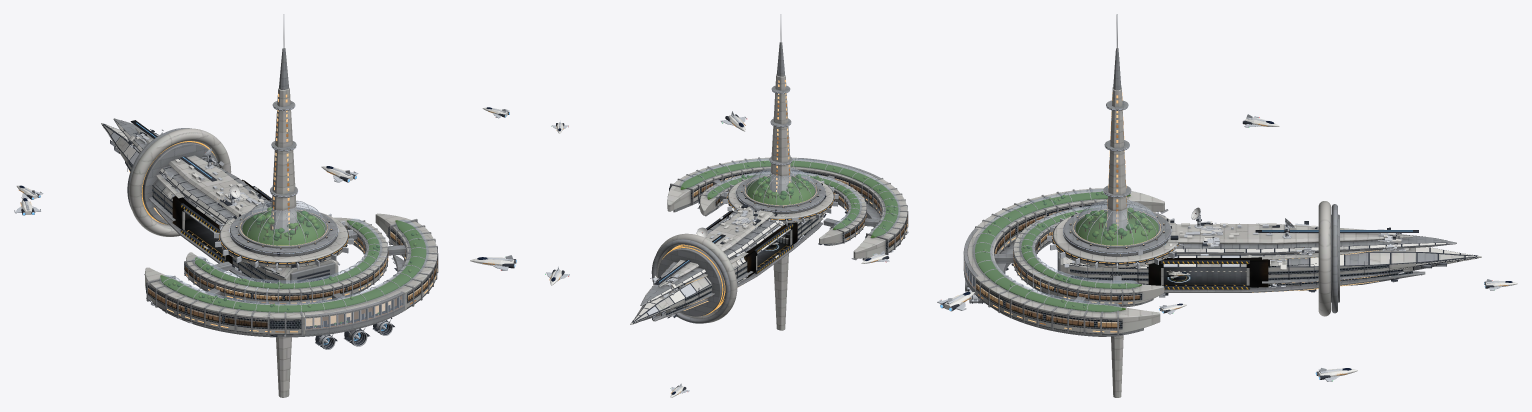
The model's file is ship_m.glb.
3 views of the same model, side by side, from view 1: azimuth 30°, elevation 25°; view 2: azimuth 150°, elevation 25°; view 3: azimuth 270°, elevation 25° (orthographic). The views are drawn at different scales.
Parts seen in each view (by area): view 1: ship_hull, ship_vault, ship_lawn, ship_dark, ship_glass, ship_facade, ship_small_pearl, ship_gallery, ship_metal, ship_bay, ship_small_white, ship_viewglass (+3 smaller); view 2: ship_hull, ship_vault, ship_lawn, ship_dark, ship_glass, ship_small_pearl, ship_small_white, ship_facade, ship_metal, ship_bay, ship_gallery, ship_tree2 (+2 smaller); view 3: ship_hull, ship_vault, ship_lawn, ship_dark, ship_facade, ship_bay, ship_glass, ship_small_pearl, ship_small_white, ship_gallery, ship_metal, ship_tree2 (+1 smaller).
Part boxes in pixels (box(x1,y1,x2,y2)): ship_hull: box(101, 48, 438, 397); ship_vault: box(159, 218, 428, 312); ship_lawn: box(160, 211, 426, 312); ship_dark: box(102, 120, 437, 348); ship_glass: box(241, 200, 326, 245); ship_facade: box(125, 160, 437, 329); ship_small_pearl: box(110, 132, 405, 346); ship_gallery: box(148, 231, 437, 327); ship_metal: box(132, 14, 428, 349); ship_bay: box(172, 179, 271, 266); ship_small_white: box(102, 121, 338, 270); ship_viewglass: box(306, 295, 404, 329); ship_hull: box(630, 42, 908, 330); ship_vault: box(680, 158, 899, 236); ship_lawn: box(680, 160, 898, 237); ship_dark: box(632, 169, 907, 323); ship_glass: box(746, 168, 815, 204); ship_small_pearl: box(647, 172, 905, 319); ship_small_white: box(632, 206, 823, 323); ship_facade: box(666, 170, 907, 315); ship_metal: box(650, 14, 908, 316); ship_bay: box(707, 211, 797, 277); ship_gallery: box(692, 174, 907, 247); ship_tree2: box(697, 160, 896, 228); ship_hull: box(963, 48, 1481, 397); ship_vault: box(972, 189, 1138, 312); ship_lawn: box(975, 192, 1158, 312); ship_dark: box(965, 202, 1478, 334); ship_facade: box(976, 204, 1412, 329); ship_bay: box(1147, 257, 1269, 287); ship_glass: box(1075, 200, 1159, 245); ship_small_pearl: box(963, 207, 1446, 303); ship_small_white: box(1063, 220, 1476, 293); ship_gallery: box(976, 209, 1140, 327); ship_metal: box(965, 14, 1404, 311); ship_tree2: box(983, 191, 1152, 308).
Bounding box in the file's own units: 83.02 × 67 × 92.37.
38 materials, 4 textured.
